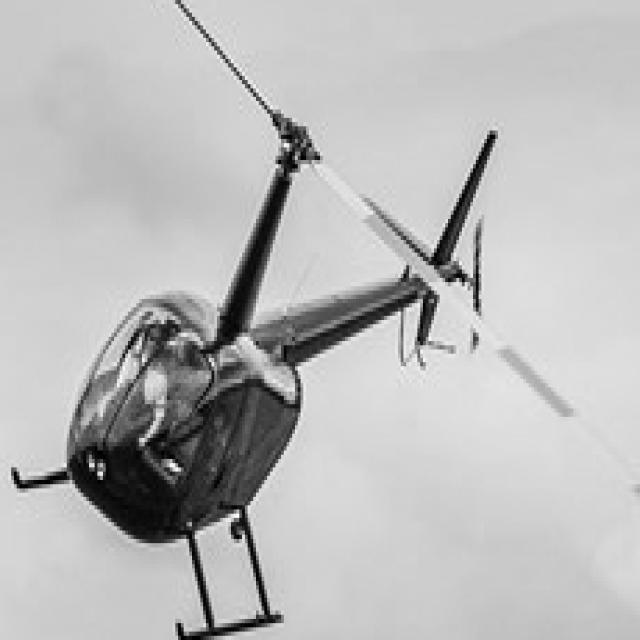helicopter: (9, 1, 640, 640)
